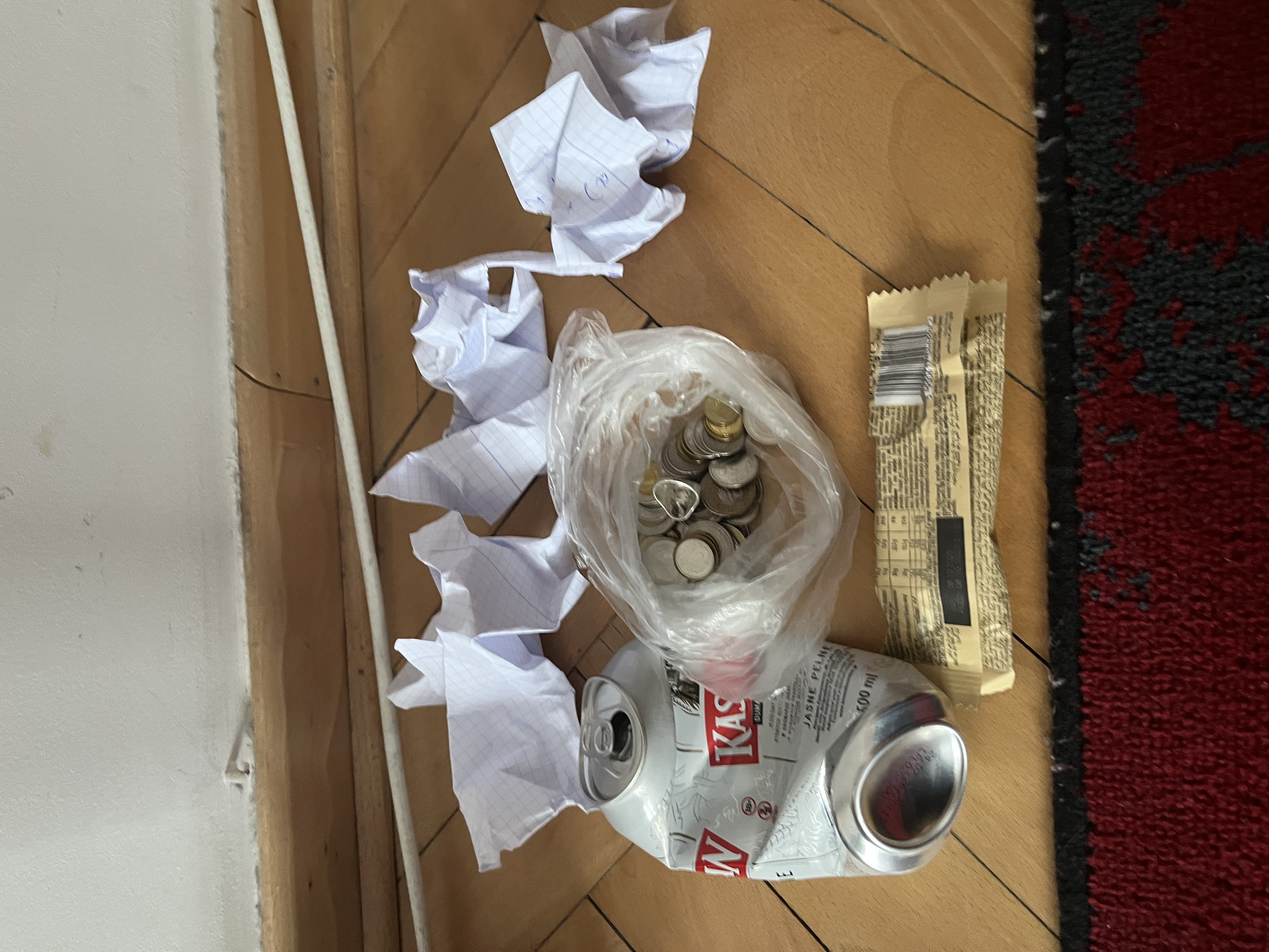METAL: (575, 637, 979, 885), (634, 369, 770, 629)
PAPER: (391, 524, 605, 886), (477, 7, 724, 298), (372, 234, 593, 536)
PLASTIC: (536, 313, 860, 710), (856, 262, 1023, 722)
